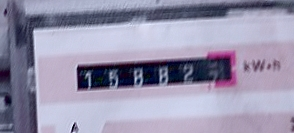1: (83, 68, 93, 87)
2: (182, 61, 195, 82)
5: (105, 67, 120, 87)
7: (206, 67, 219, 80)
8: (156, 63, 170, 84), (132, 65, 145, 85)
screen: (71, 48, 242, 96)
